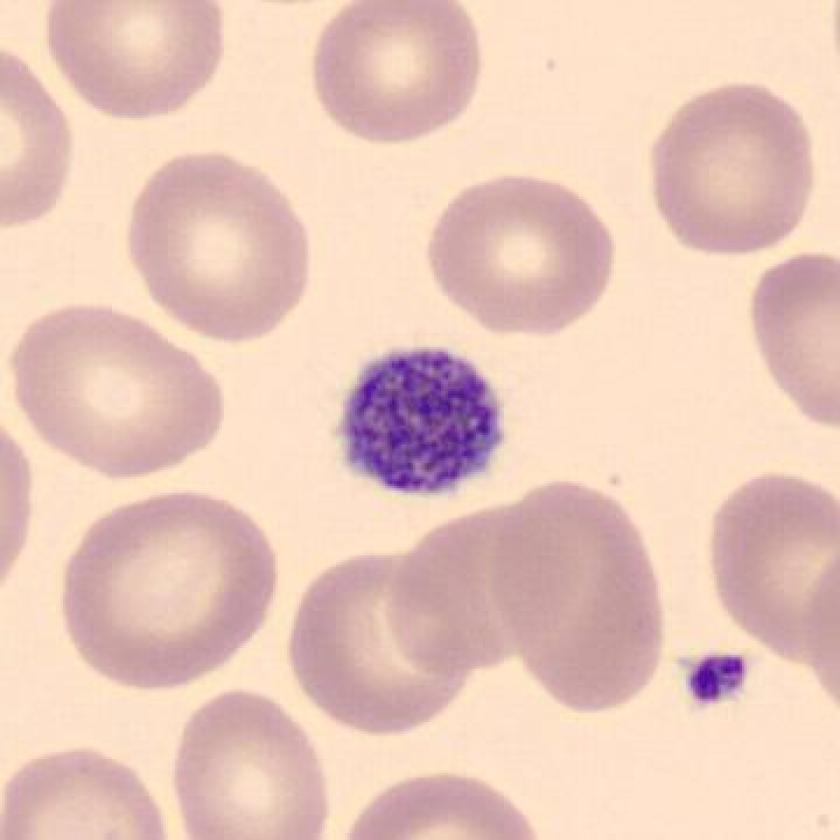platelets: (328, 334, 517, 515), (671, 630, 773, 737)
